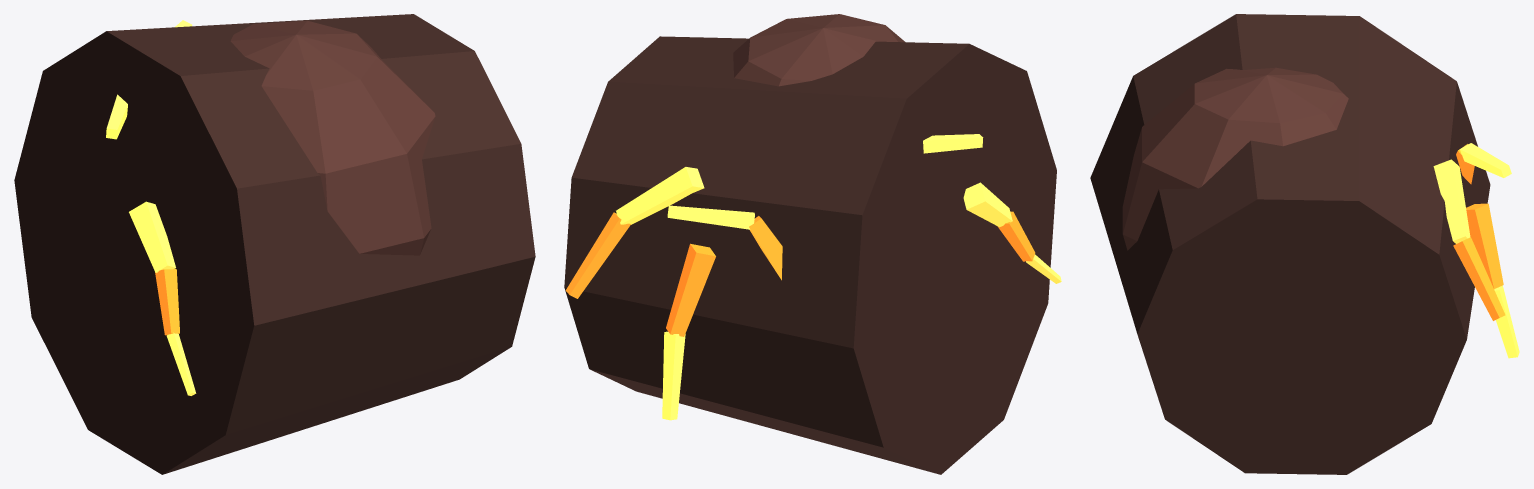
Rendered from ember_giant_arm_l.glb.
The picture shows the model from 3 angles, left to right: view 1: azimuth 30°, elevation 25°; view 2: azimuth 150°, elevation 25°; view 3: azimuth 270°, elevation 25°; orthographic projection. The views are drawn at different scales.
Visible parts, largest first — view 1: ember_giant_arm_l; view 2: ember_giant_arm_l; view 3: ember_giant_arm_l.
Part boxes in pixels (x1=…): ember_giant_arm_l: x1=14, y1=14, x2=535, y2=474; ember_giant_arm_l: x1=564, y1=14, x2=1061, y2=474; ember_giant_arm_l: x1=1090, y1=14, x2=1519, y2=474.
Size of the model in its own units: 0.3059 by 0.3261 by 0.3643.
